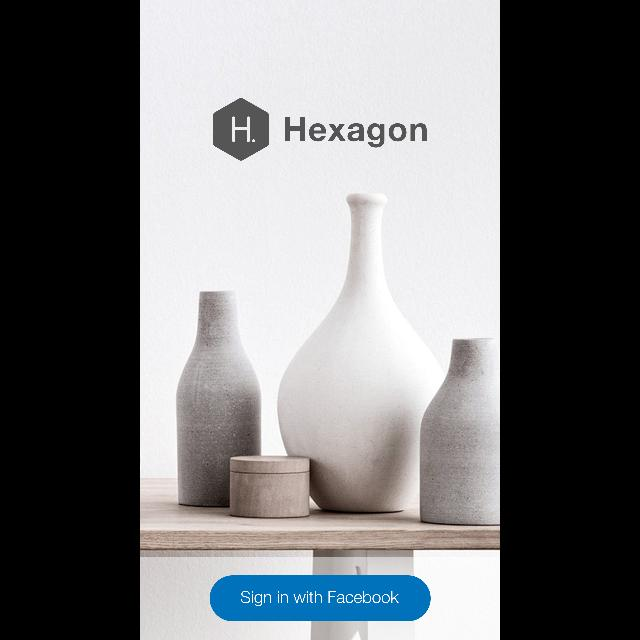backgroundimage: (140, 1, 500, 640)
image: (212, 97, 270, 161)
text: (285, 116, 427, 148)
textbutton: (210, 574, 430, 622)
